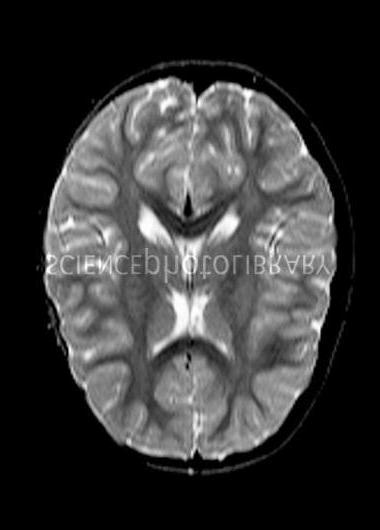Normal_Brain: (12, 29, 380, 488)
